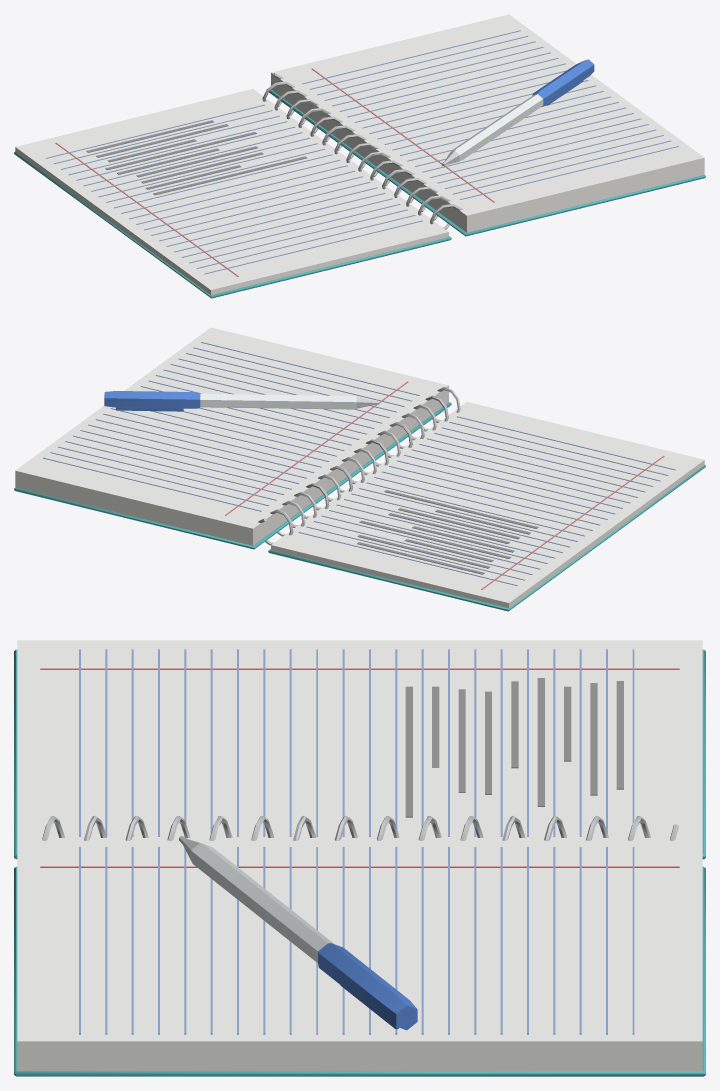
Rendered from paper_notebook_open.fbx.
3 renders of one model, top to bottom at view 1: azimuth 30°, elevation 25°; view 2: azimuth 150°, elevation 25°; view 3: azimuth 270°, elevation 25°, orthographic. The views are drawn at different scales.
Parts seen in each view (by area): view 1: paper_notebook_open; view 2: paper_notebook_open; view 3: paper_notebook_open.
Boxes of the visible parts, x1=… form: paper_notebook_open: x1=14, y1=14, x2=705, y2=298; paper_notebook_open: x1=14, y1=327, x2=705, y2=611; paper_notebook_open: x1=14, y1=640, x2=705, y2=1076.
Size of the model in its own units: 0.304 by 0.0256 by 0.21.
